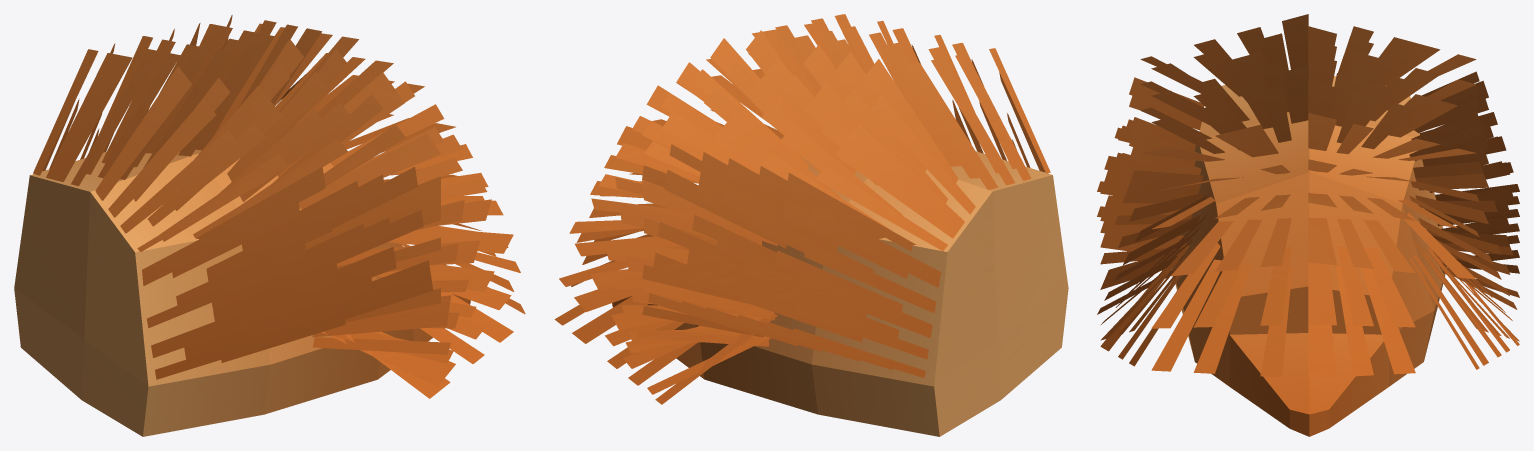
The model's file is Herisson_body.fbx.
3 views of the same model, side by side, from view 1: azimuth 30°, elevation 25°; view 2: azimuth 150°, elevation 25°; view 3: azimuth 270°, elevation 25° (orthographic). The views are drawn at different scales.
Parts seen in each view (by area): view 1: Herisson_body; view 2: Herisson_body; view 3: Herisson_body.
Boxes of the visible parts, bbox=[...] form: Herisson_body: bbox=[14, 15, 525, 436]; Herisson_body: bbox=[554, 14, 1068, 436]; Herisson_body: bbox=[1097, 14, 1519, 436].
Bounding box in the file's own units: 48.03 × 35.49 × 46.64.
